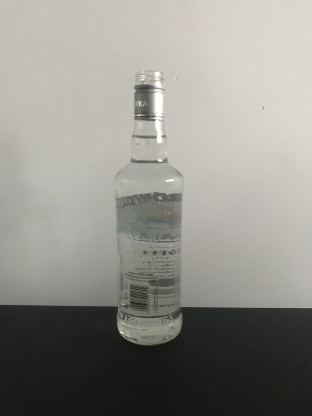nakretka: (131, 67, 167, 121)
